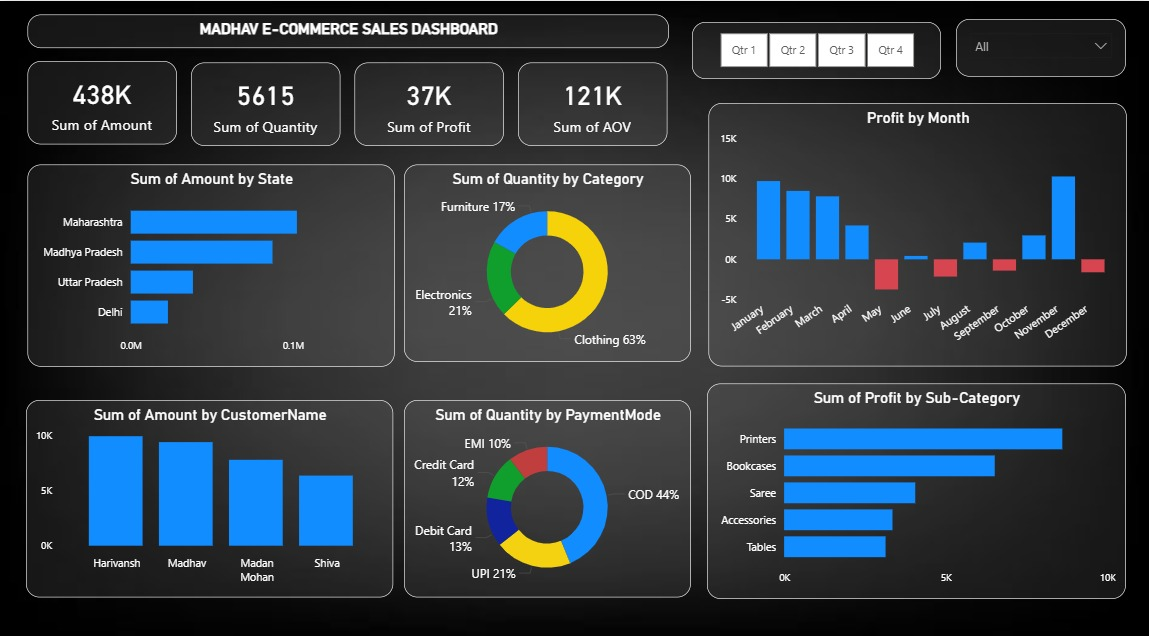

The page's visual inventory and layout, read from the dashboard file:
{"tool":"powerbi","page":{"name":"Page 1","canvas":[1280,720],"ordinal":0},"visuals":[{"type":"textbox","title":"MADHAV E-COMMERCE SALES DASHBOARD","box":[30.9,14.6,712.4,37.4],"z":0},{"type":"columnChart","title":" Profit by Month","fields":{"Category":["Orders.Order Date.Variation.Date Hierarchy.Month"],"Y":["Details.Profit"]},"box":[788,113.4,464.9,292.9],"z":1000},{"type":"barChart","fields":{"Category":["Details.Sub-Category"],"Y":["Details.Profit"]},"box":[787.2,424.5,465.2,239.1],"z":2000},{"type":"donutChart","fields":{"Category":["Details.Category"],"Y":["Details.Quantity"]},"box":[450.6,182.2,318.8,219.6],"z":3000},{"type":"donutChart","fields":{"Y":["Details.Quantity"],"Category":["Details.PaymentMode"]},"box":[450.6,444,318.8,219.6],"z":4000},{"type":"card","fields":{"Values":["Details.Amount"]},"box":[30.9,66.7,165.9,92.7],"z":5000},{"type":"card","fields":{"Values":["Details.Quantity"]},"box":[213.1,68.3,165.9,92.7],"z":6000},{"type":"card","fields":{"Values":["Details.Profit"]},"box":[395.3,68.3,165.9,92.7],"z":7000},{"type":"card","fields":{"Values":["Details.AOV"]},"box":[577.4,68.3,165.9,92.7],"z":8000},{"type":"barChart","fields":{"Category":["Orders.State"],"Y":["Details.Amount"]},"box":[30.9,182.2,408.3,224.5],"z":9000},{"type":"columnChart","fields":{"Category":["Orders.CustomerName"],"Y":["Details.Amount"]},"box":[30.2,444.1,408.2,219.2],"z":10000},{"type":"slicer","fields":{"Values":["Orders.Order Date.Variation.Date Hierarchy.Quarter"]},"box":[769.4,22.8,276.5,63.4],"z":11000},{"type":"slicer","fields":{"Values":["Orders.State"]},"box":[1063.9,20.8,189,64.3],"z":12000}]}

Visuals, with their boxes in screenshot pixels (x1, y1, x2, y2), scaled from the page's 1280x720 canvas onto the 1149x636 screenshot:
"MADHAV E-COMMERCE SALES DASHBOARD" textbox: 28, 13, 667, 46
" Profit by Month" columnChart: 707, 100, 1125, 359
barChart - Details.Sub-Category x Details.Profit: 707, 375, 1124, 586
donutChart - Details.Category x Details.Quantity: 404, 161, 691, 355
donutChart - Details.Quantity x Details.PaymentMode: 404, 392, 691, 586
card - Details.Amount: 28, 59, 177, 141
card - Details.Quantity: 191, 60, 340, 142
card - Details.Profit: 355, 60, 504, 142
card - Details.AOV: 518, 60, 667, 142
barChart - Orders.State x Details.Amount: 28, 161, 394, 359
columnChart - Orders.CustomerName x Details.Amount: 27, 392, 394, 586
slicer - Orders.Order Date.Variation.Date Hierarchy.Quarter: 691, 20, 939, 76
slicer - Orders.State: 955, 18, 1125, 75
